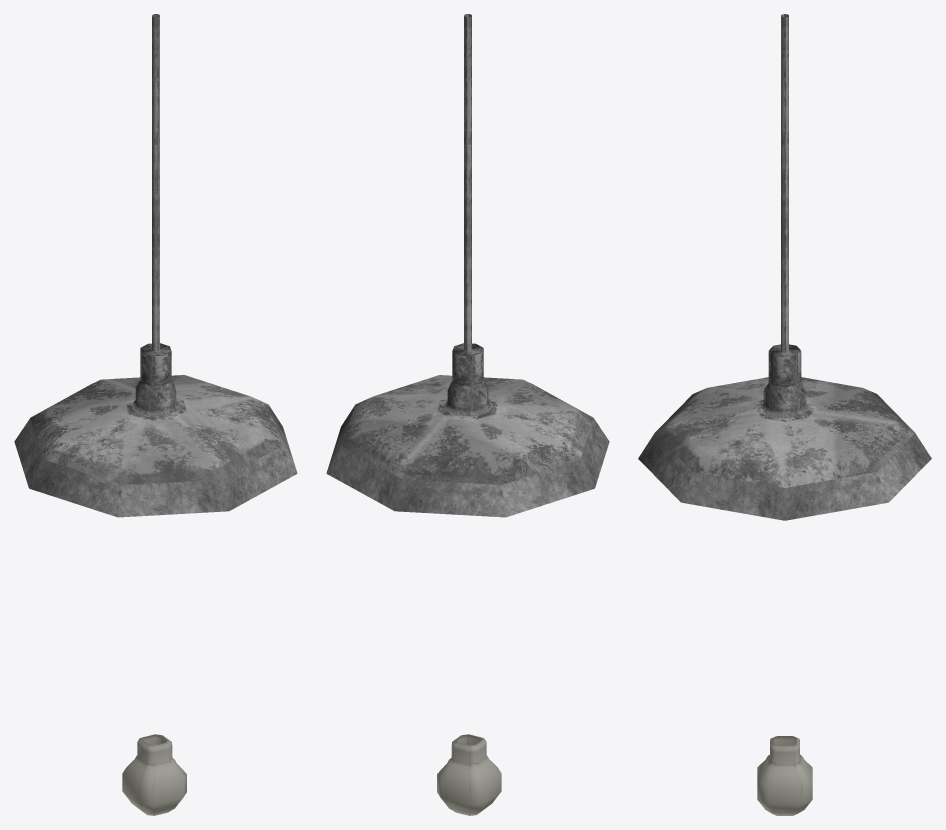
File: hanging_round_lamp_final.fbx
The picture shows the model from 3 angles, left to right: view 1: azimuth 30°, elevation 25°; view 2: azimuth 150°, elevation 25°; view 3: azimuth 270°, elevation 25°; orthographic projection.
Parts seen in each view (by area): view 1: pCylinder1, glass_lightbulb; view 2: pCylinder1, glass_lightbulb; view 3: pCylinder1, glass_lightbulb.
Boxes of the visible parts, <box> form: pCylinder1: <box>14,14,297,517</box>; glass_lightbulb: <box>122,734,186,815</box>; pCylinder1: <box>326,14,609,517</box>; glass_lightbulb: <box>437,734,501,815</box>; pCylinder1: <box>638,14,931,520</box>; glass_lightbulb: <box>757,736,812,815</box>.
Size of the model in its own units: 18.14 by 54.18 by 18.14.
2 materials, 2 textured.
